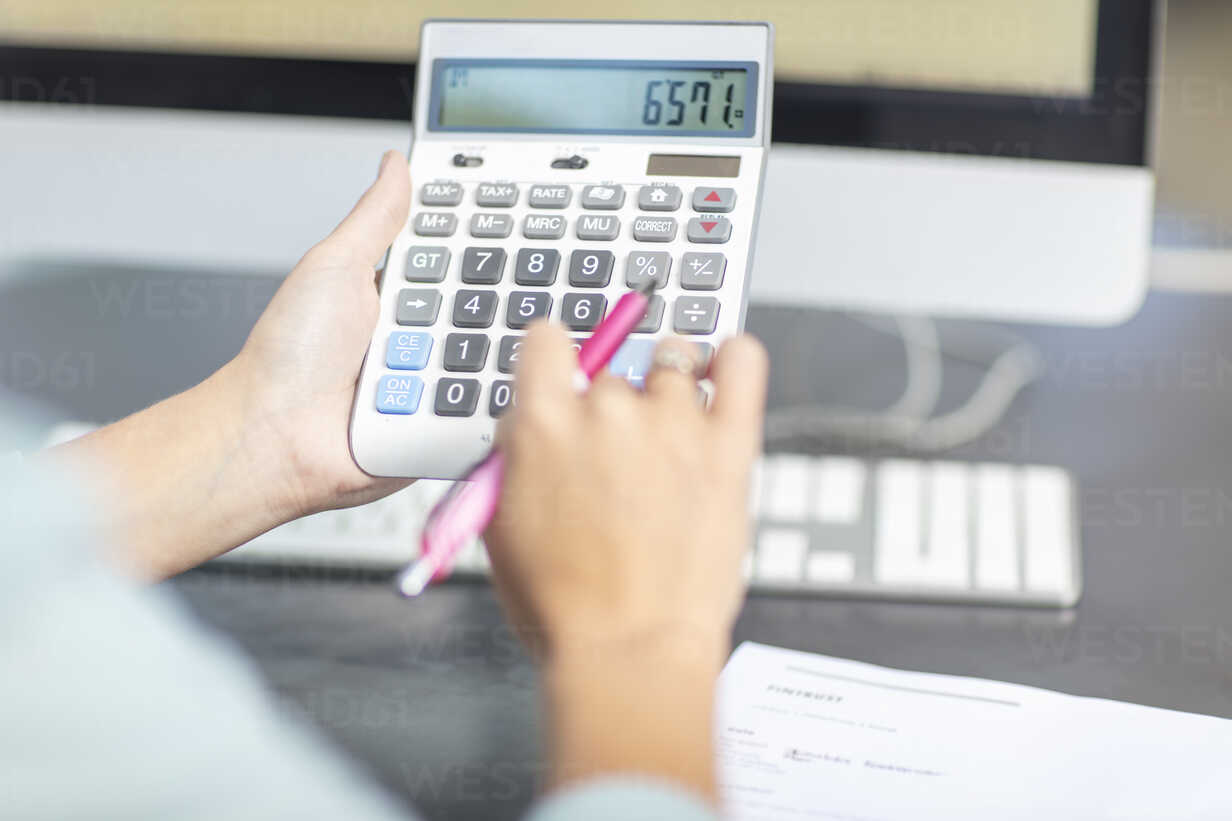Calculator: (338, 14, 795, 487)
